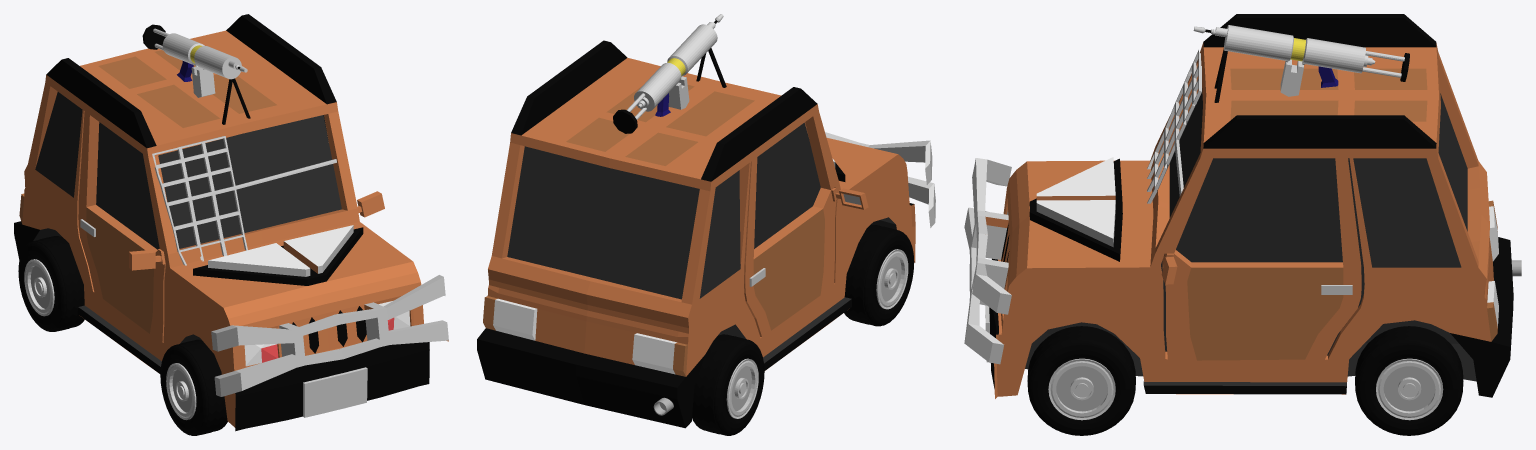
The picture shows the model from 3 angles, left to right: view 1: azimuth 30°, elevation 25°; view 2: azimuth 150°, elevation 25°; view 3: azimuth 270°, elevation 25°; orthographic projection. The views are drawn at different scales.
Parts seen in each view (by area): view 1: BODY44B, WHEEL.004, WHEEL.001, GUN, FRAME; view 2: BODY44B, WHEEL.004, WHEEL.001, FRAME; view 3: BODY44B, WHEEL.003, WHEEL.002, FRAME, GUN.
Part boxes in pixels (<box>): BODY44B: <box>14,14,448,431</box>; WHEEL.004: <box>18,236,84,331</box>; WHEEL.001: <box>160,339,227,435</box>; GUN: <box>152,136,336,265</box>; FRAME: <box>142,24,250,124</box>; BODY44B: <box>477,40,935,428</box>; WHEEL.004: <box>692,334,764,435</box>; WHEEL.001: <box>844,225,914,326</box>; FRAME: <box>613,14,726,133</box>; BODY44B: <box>964,14,1513,398</box>; WHEEL.003: <box>1027,326,1135,435</box>; WHEEL.002: <box>1355,326,1463,435</box>; FRAME: <box>1193,25,1409,102</box>; GUN: <box>1147,50,1201,203</box>.
Size of the model in its own units: 131 by 149 by 216.
